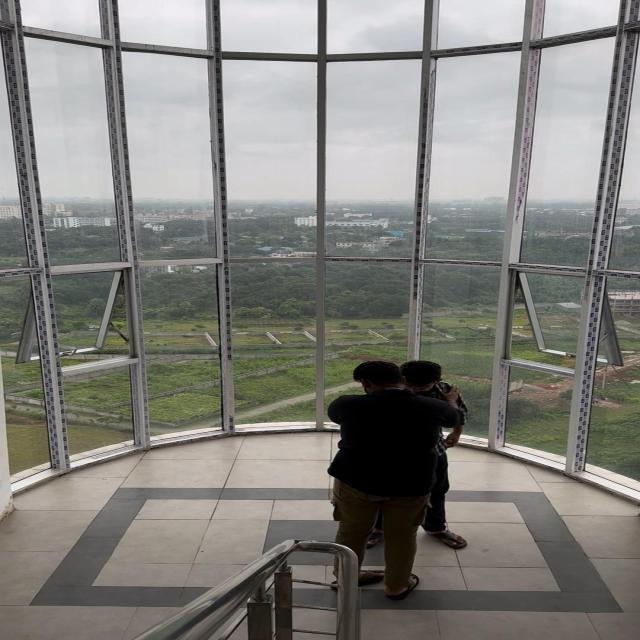fight: (261, 328, 538, 614)
